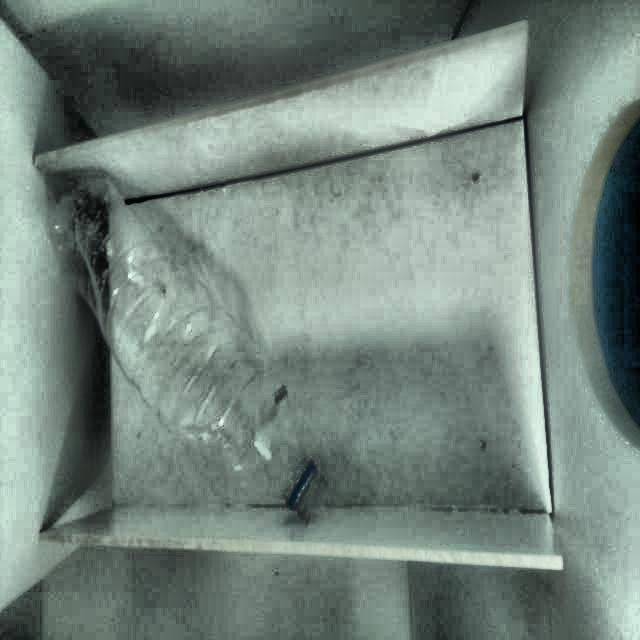plastic bottle: (38, 162, 337, 536)
